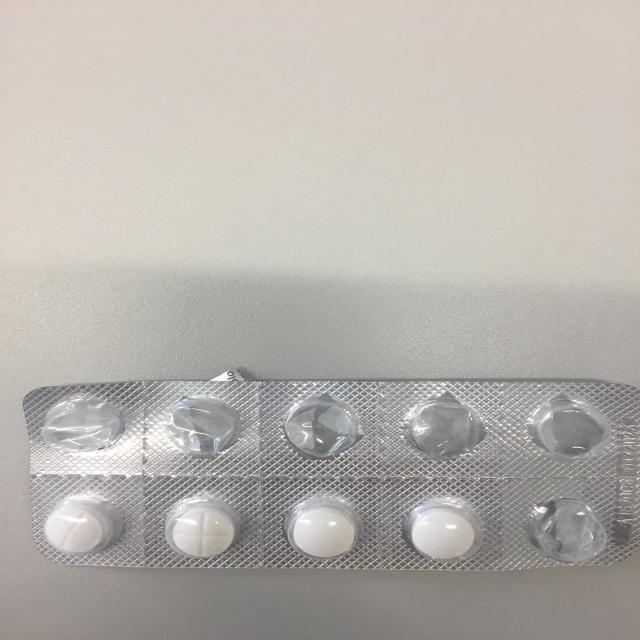Empty: (269, 389, 372, 460), (394, 389, 490, 461), (523, 497, 614, 567), (157, 392, 248, 460), (519, 393, 610, 460), (35, 395, 131, 455)
Pill: (398, 497, 488, 564), (153, 494, 244, 560), (278, 495, 368, 561), (34, 491, 122, 557)
